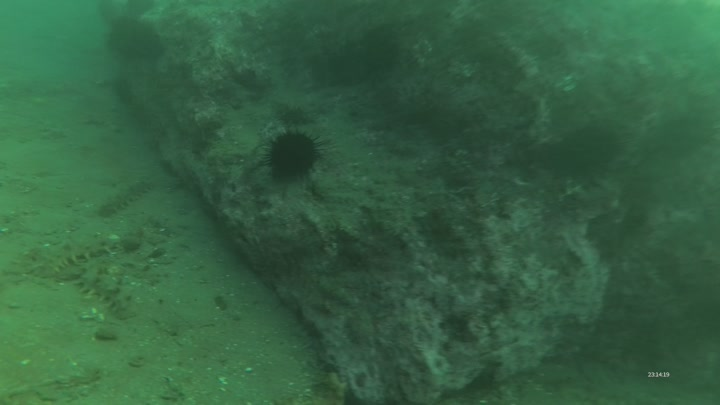echinus: (552, 123, 622, 185), (335, 27, 405, 86), (264, 128, 330, 185), (108, 20, 165, 61), (279, 106, 315, 128), (114, 79, 137, 106)
holothurian: (74, 266, 132, 313), (33, 243, 114, 275), (99, 177, 155, 219)
starfish: (31, 384, 66, 404)
